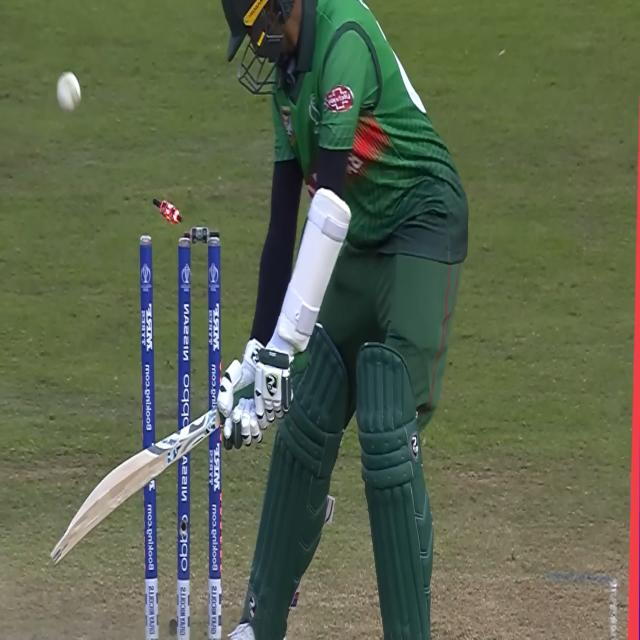ball: (55, 68, 85, 118)
